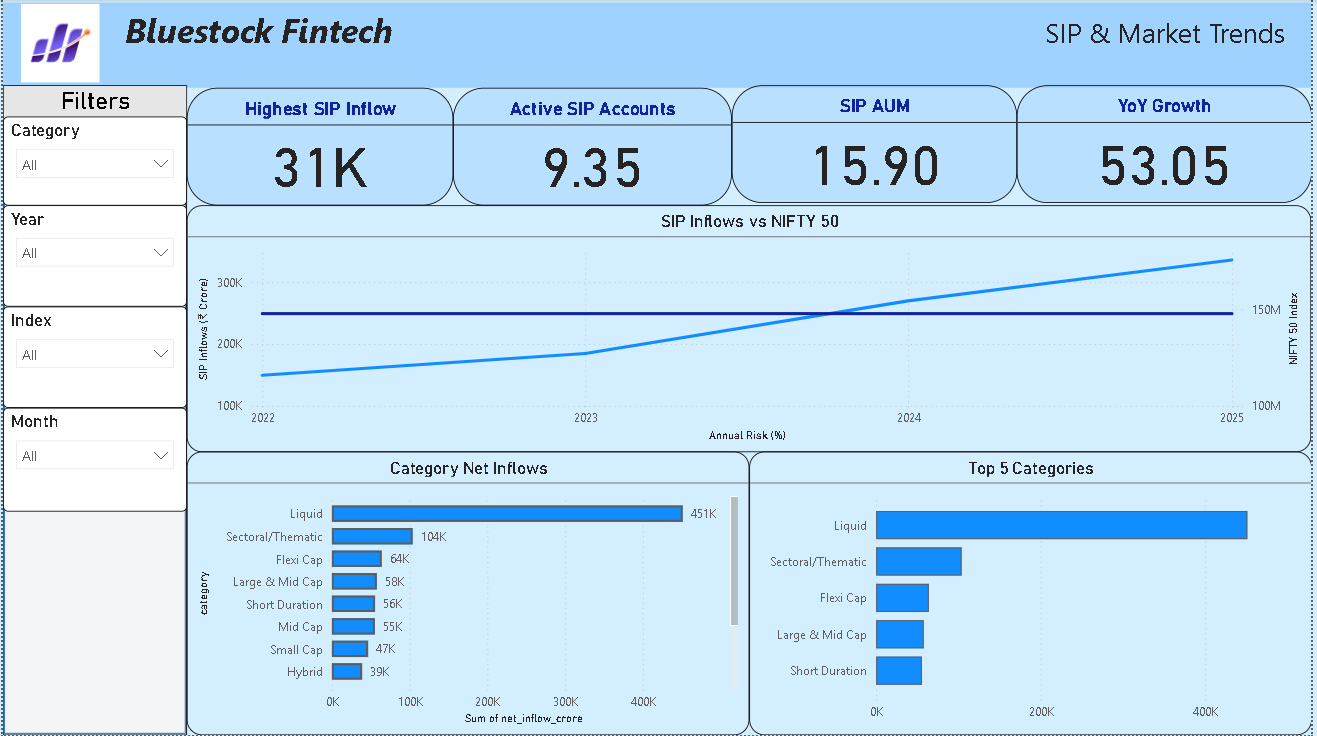

Layout of this report page (visuals, bound fields, positions):
{"tool":"powerbi","page":{"name":"Page 4","canvas":[1280,720],"ordinal":3},"visuals":[{"type":"textbox","box":[0,4,1280.3,83],"z":0},{"type":"image","box":[0,0,111.3,86.8],"z":1000},{"type":"shape","title":"Filters","box":[0,84.1,180,635.9],"z":2000},{"type":"card","title":"Highest SIP Inflow","fields":{"Values":["Max(04_monthly_sip_inflows.sip_inflow_crore)"]},"box":[179.8,86.8,260.5,114.9],"z":3000},{"type":"card","title":"Active SIP Accounts","fields":{"Values":["Max(04_monthly_sip_inflows.active_sip_accounts_crore)"]},"box":[440.2,86.8,272.7,114.9],"z":4000},{"type":"card","title":"SIP AUM","fields":{"Values":["Max(04_monthly_sip_inflows.sip_aum_lakh_crore)"]},"box":[712.9,84.4,278.8,114.9],"z":5000},{"type":"card","title":"YoY Growth","fields":{"Values":["Max(04_monthly_sip_inflows.yoy_growth_pct)"]},"box":[991.4,84.4,288.6,114.9],"z":6000},{"type":"lineChart","title":"SIP Inflows vs NIFTY 50","fields":{"Category":["04_monthly_sip_inflows.month.Variation.Date Hierarchy.Year","04_monthly_sip_inflows.month.Variation.Date Hierarchy.Month"],"Y":["Sum(04_monthly_sip_inflows.sip_inflow_crore)"],"Y2":["Sum(10_benchmark_indices.close_value)"]},"box":[180,201.2,1100,241.2],"z":7000},{"type":"clusteredBarChart","title":"Category Net Inflows","fields":{"Category":["05_category_inflows.category"],"Y":["Sum(05_category_inflows.net_inflow_crore)"]},"box":[179.8,442.4,550.3,277.6],"z":8000},{"type":"clusteredBarChart","title":"Top 5 Categories","fields":{"Category":["05_category_inflows.category"],"Y":["Sum(05_category_inflows.net_inflow_crore)"]},"box":[729.7,442.4,550.3,277.6],"z":9000},{"type":"slicer","title":"Category","fields":{"Values":["05_category_inflows.category"]},"box":[0,114.9,179.8,86.8],"z":10000},{"type":"slicer","title":"Year","fields":{"Values":["05_category_inflows.month.Variation.Date Hierarchy.Year"]},"box":[0,201.8,179.8,99],"z":11000},{"type":"slicer","title":"Index","fields":{"Values":["10_benchmark_indices.index_name"]},"box":[0,300.8,179.8,99],"z":12000},{"type":"slicer","title":"Month","fields":{"Values":["05_category_inflows.month.Variation.Date Hierarchy.Month"]},"box":[0,399.9,179.8,101.5],"z":13000}]}

Visuals, with their boxes in screenshot pixels (x1, y1, x2, y2), scaled from the page's 1280x720 canvas onto the 1317x736 screenshot:
textbox: locate(0, 4, 1316, 89)
image: locate(0, 0, 115, 89)
"Filters" shape: locate(0, 86, 185, 735)
"Highest SIP Inflow" card: locate(185, 89, 453, 206)
"Active SIP Accounts" card: locate(453, 89, 734, 206)
"SIP AUM" card: locate(734, 86, 1020, 204)
"YoY Growth" card: locate(1020, 86, 1316, 204)
"SIP Inflows vs NIFTY 50" lineChart: locate(185, 206, 1316, 452)
"Category Net Inflows" clusteredBarChart: locate(185, 452, 751, 735)
"Top 5 Categories" clusteredBarChart: locate(751, 452, 1316, 735)
"Category" slicer: locate(0, 117, 185, 206)
"Year" slicer: locate(0, 206, 185, 307)
"Index" slicer: locate(0, 307, 185, 409)
"Month" slicer: locate(0, 409, 185, 513)
